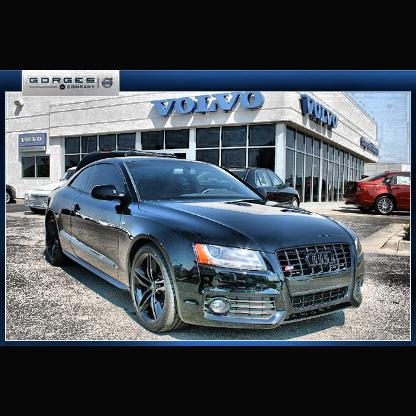Audi S5 Coupe 2012: (24, 134, 380, 346)
